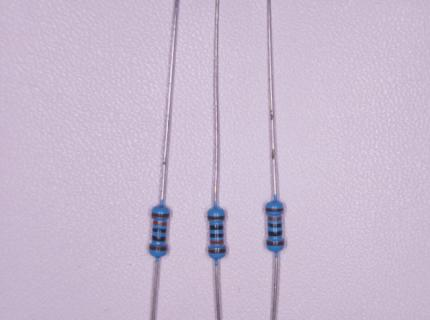Black band: (152, 235, 166, 242), (268, 231, 282, 236), (152, 228, 166, 233), (210, 233, 224, 238), (210, 225, 223, 230), (268, 224, 282, 227)
Brown band: (150, 245, 167, 251), (152, 213, 169, 218), (267, 241, 284, 246), (208, 249, 226, 253), (266, 208, 283, 212), (208, 216, 224, 220)
Orange band: (153, 221, 167, 226), (268, 217, 282, 221), (210, 240, 224, 244)
